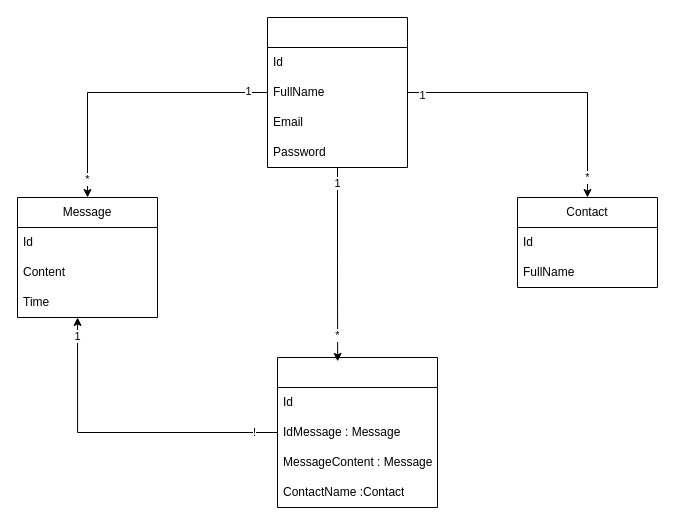
The diagram is 675 pixels wide and 525 high, and some of its shapes have lost their labels. The shapes that lost their labels are listed below. From the top down, each one's box as (x1, y1, x2, y2) in pixels, then its label:
(266, 16, 408, 168): User
(276, 356, 438, 508): Notication
